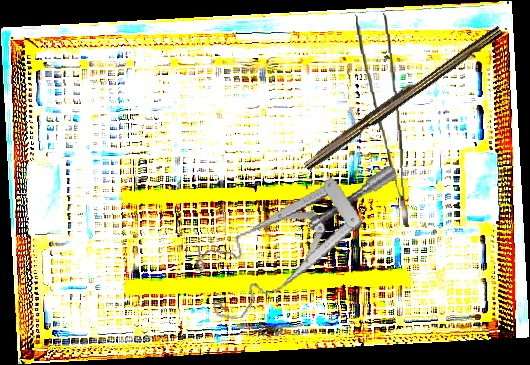Scalpel Handle: (300, 19, 504, 175)
Speculum: (184, 164, 419, 325)
Tissue Forceps: (355, 12, 409, 229)
